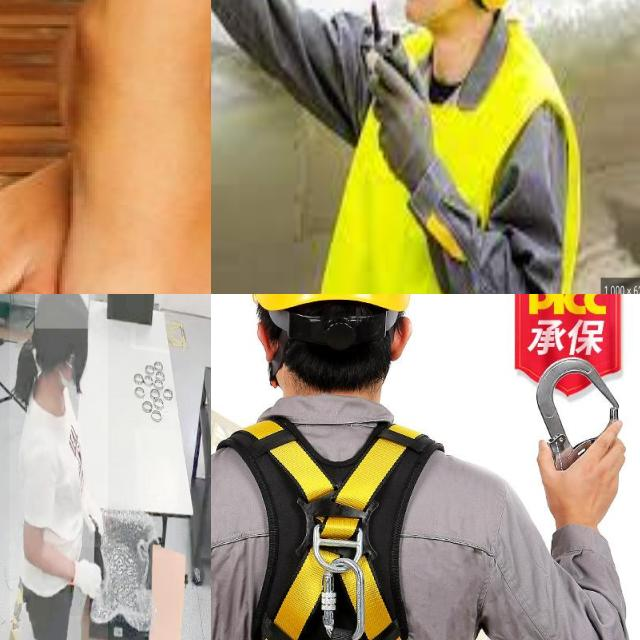Barefoots: (50, 24, 211, 294)
Harness: (211, 413, 472, 640)
hand_glove: (71, 547, 107, 617), (76, 464, 104, 541)
head_nohelmet: (35, 294, 89, 329)
person: (9, 294, 108, 640)
